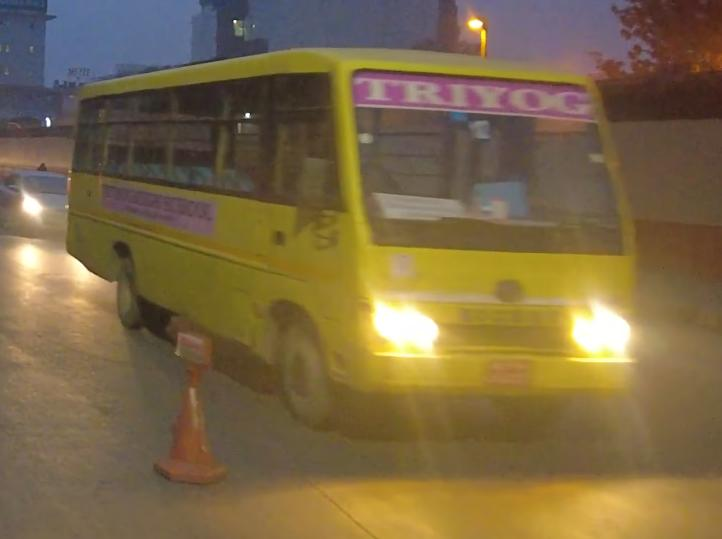school_bus: (62, 42, 645, 441)
